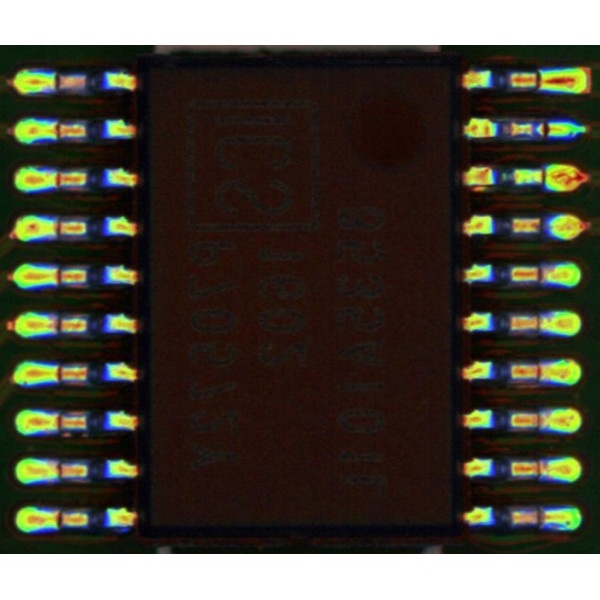Bad_podu: (41, 270, 76, 282), (524, 75, 566, 85), (525, 366, 562, 376), (526, 512, 562, 522), (43, 320, 74, 331), (532, 125, 569, 134), (46, 514, 74, 525), (42, 127, 73, 136)
